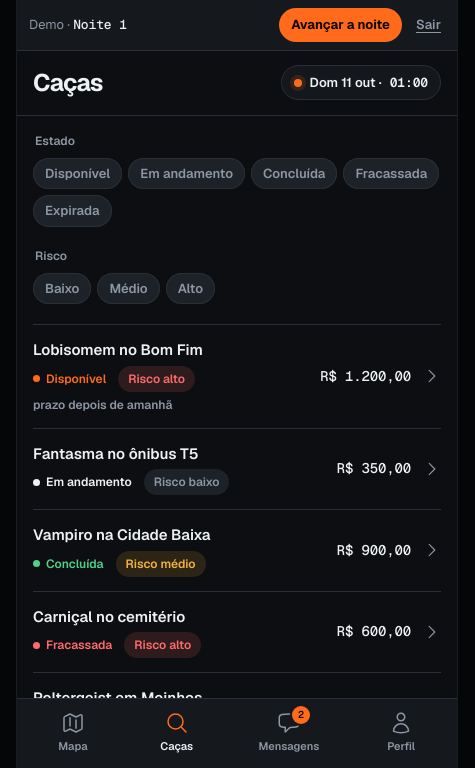
it: demo bar › advances the night and shows what changed
Check: the text "Noite 1" is shown, box x1=73 y1=16 x2=127 y2=33
Click the button "Avançar a noite".
click(341, 25)  # box x1=279 y1=8 x2=402 y2=42
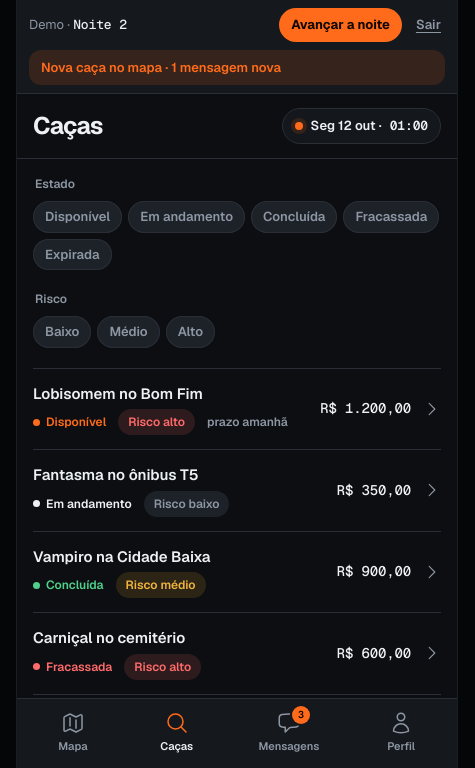
Check: the text "Noite 2" is shown, box x1=73 y1=16 x2=127 y2=33
Check: the message reads "Nova caça no mapa · 1 mensagem nova", box x1=41 y1=58 x2=281 y2=76
